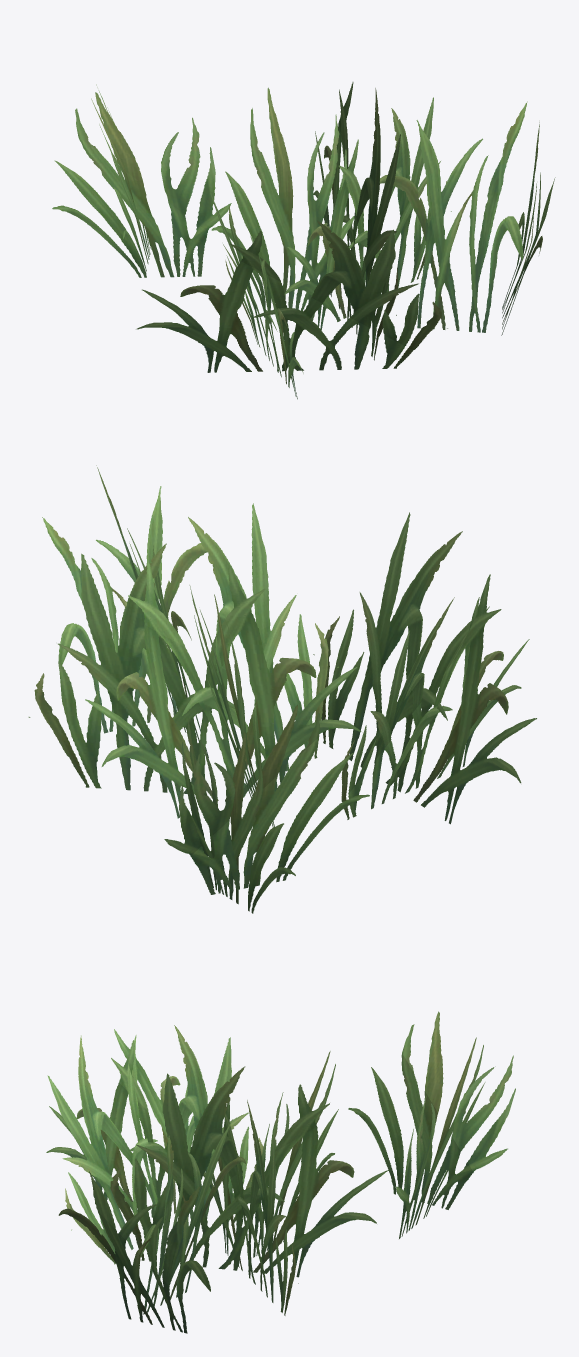
The model's file is cao_1.FBX.
3 renders of one model, top to bottom at view 1: azimuth 30°, elevation 25°; view 2: azimuth 150°, elevation 25°; view 3: azimuth 270°, elevation 25°, orthographic. The views are drawn at different scales.
Visible parts, largest first — view 1: UE201; view 2: UE201; view 3: UE201.
Part boxes in pixels (x1,y1,x2,y2): UE201: (52, 82, 555, 399); UE201: (28, 465, 536, 913); UE201: (46, 1011, 515, 1333).
Bounding box in the file's own units: 171 × 90.63 × 200.
1 material, 1 textured.
